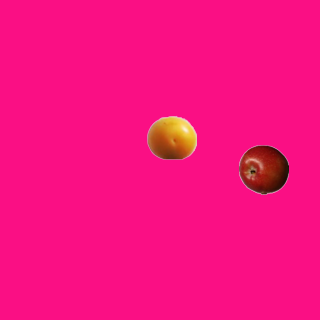Apple Braeburn: (238, 144, 288, 194)
Cherry Wax Yellow: (146, 112, 196, 162)
